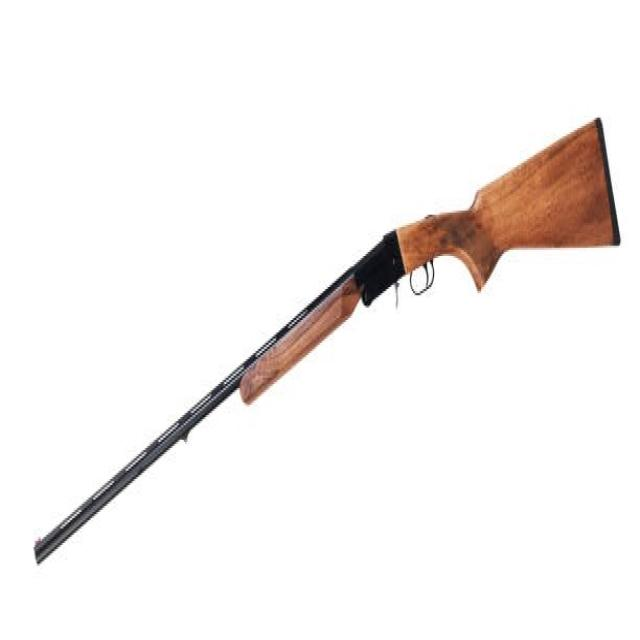rifle: (29, 105, 624, 575)
